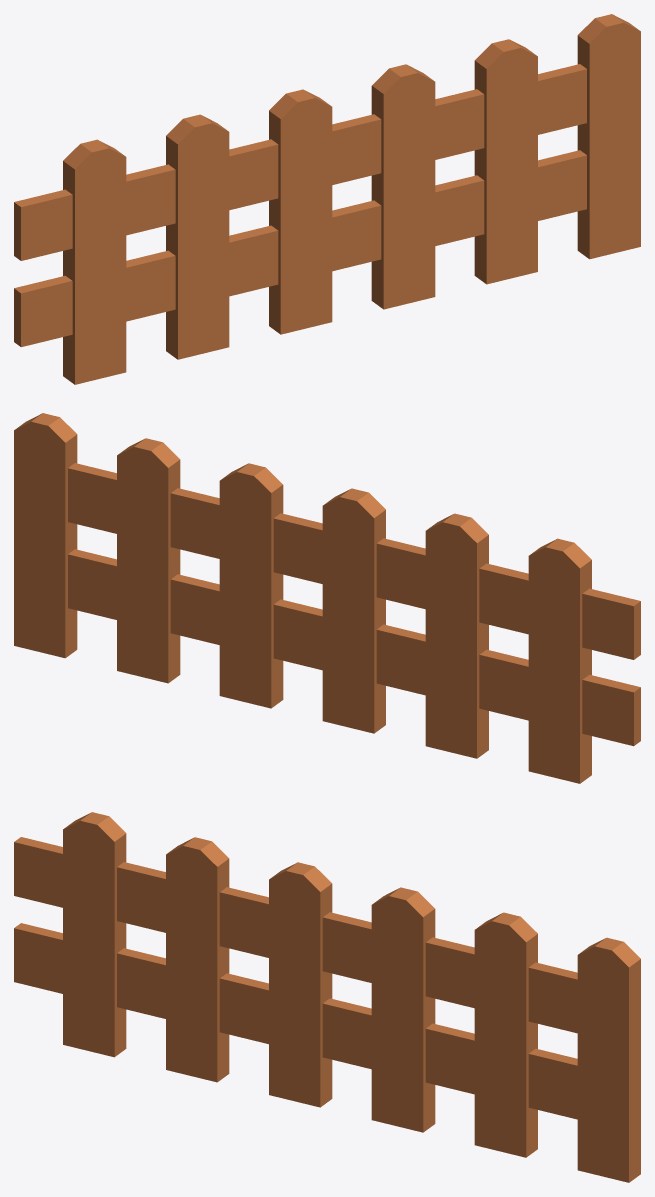
File: Cerca (1).fbx
3 renders of one model, top to bottom at view 1: azimuth 30°, elevation 25°; view 2: azimuth 150°, elevation 25°; view 3: azimuth 330°, elevation 25°, orthographic.
Visible parts, largest first — view 1: Cube.003; view 2: Cube.003; view 3: Cube.003.
Part boxes in pixels (x1=…): Cube.003: x1=14, y1=14, x2=640, y2=384; Cube.003: x1=14, y1=413, x2=640, y2=783; Cube.003: x1=14, y1=812, x2=640, y2=1182.
Size of the model in its own units: 1200 by 424 by 40.
